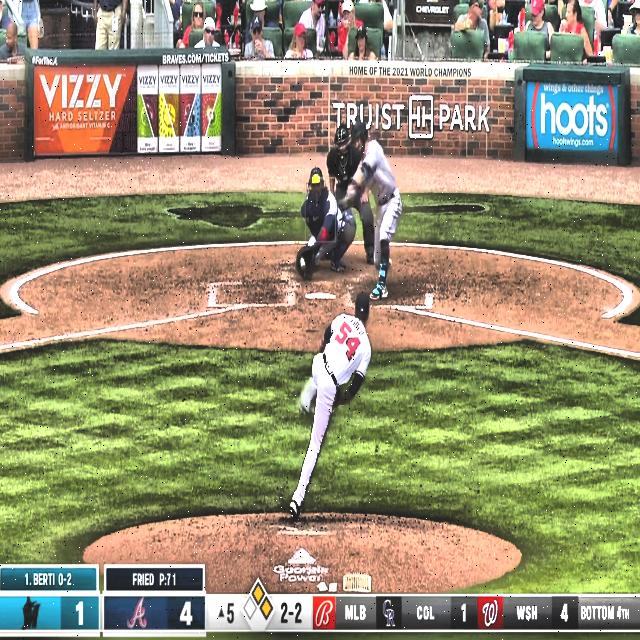baseball: (299, 256, 306, 270)
